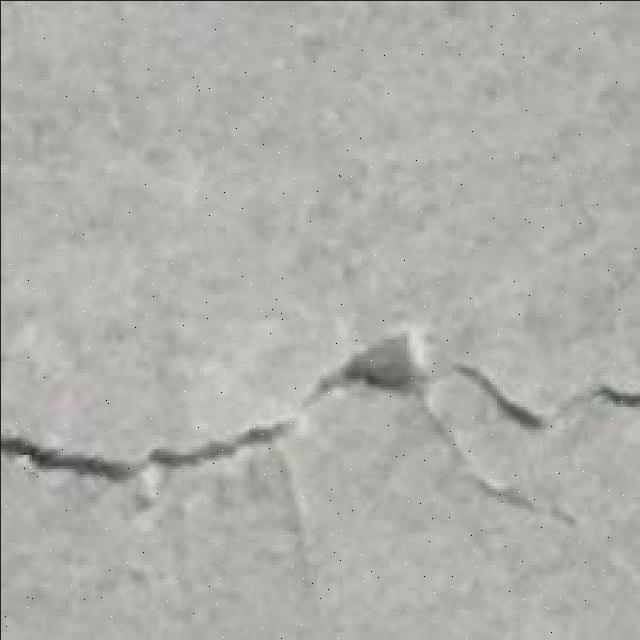crack: (1, 331, 633, 522), (2, 422, 299, 483), (4, 441, 137, 478), (556, 381, 640, 418)
